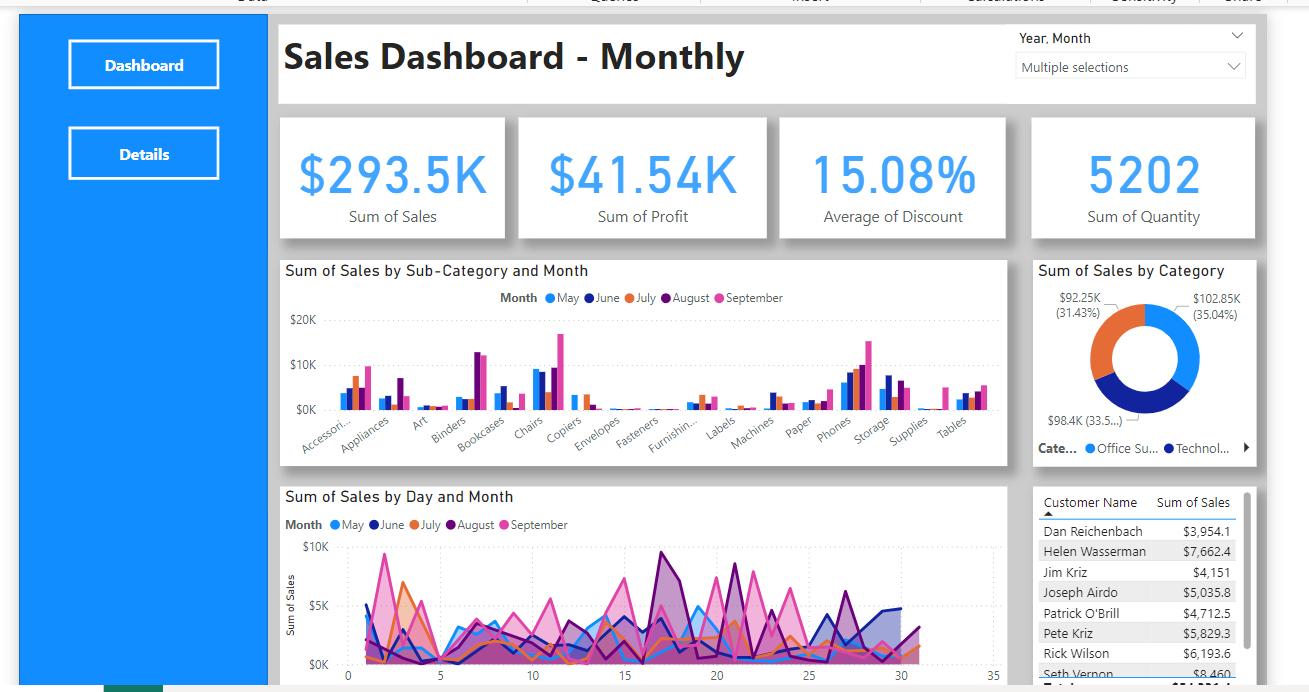

This screenshot's page, from the dashboard's own definition file:
{"tool":"powerbi","page":{"name":"Page 1","canvas":[1280,720],"ordinal":0},"visuals":[{"type":"shape","box":[0,0,255.1,720],"z":0},{"type":"card","fields":{"Values":["Sheet1.Sales"]},"box":[267.2,106.6,230.6,124.1],"z":0,"group":"g1"},{"type":"card","fields":{"Values":["Sheet1.Profit"]},"box":[512.2,106.6,254.5,124.1],"z":1000,"group":"g1"},{"type":"actionButton","box":[51,26.5,155,51],"z":1000},{"type":"card","fields":{"Values":["Sheet1.Quantity"]},"box":[1038.6,106.6,229,124.1],"z":2000,"group":"g1"},{"type":"actionButton","box":[51,115.3,155,54.8],"z":2000},{"type":"card","fields":{"Values":["Sheet1.Discount"]},"box":[779.4,106.6,232.2,124.1],"z":3000,"group":"g1"},{"type":"textbox","box":[265.6,11.1,1002.1,81.1],"z":3000},{"type":"slicer","fields":{"Values":["Sheet1.Order Month.Variation.Date Hierarchy.Year","Sheet1.Order Month.Variation.Date Hierarchy.Month"]},"box":[1011.6,11.1,256.1,81.1],"z":4000},{"type":"clusteredColumnChart","fields":{"Category":["Sheet1.Sub-Category"],"Y":["Sheet1.Sales"],"Series":["Sheet1.Order Month.Variation.Date Hierarchy.Month"]},"box":[267.2,252.9,746,211.6],"z":4000,"group":"g1"},{"type":"group","id":"g1","title":"Group 1","box":[267.2,106.6,1000.8,599.7],"z":5000},{"type":"areaChart","fields":{"Category":["Sheet1.Order Month.Variation.Date Hierarchy.Day"],"Y":["Sheet1.Sales"],"Series":["Sheet1.Order Month.Variation.Date Hierarchy.Month"]},"box":[267.2,485.2,746,221.1],"z":5000,"group":"g1"},{"type":"donutChart","fields":{"Category":["Sheet1.Category"],"Y":["Sheet1.Sales"]},"box":[1039,253,229,212],"z":6000,"group":"g1"},{"type":"tableEx","fields":{"Values":["Sheet1.Customer Name","Sheet1.Sales"]},"box":[1039,485,229,221],"z":7000,"group":"g1"}]}

Visuals, with their boxes on the page's 1280x720 design canvas (x1, y1, x2, y2). These are canvas units, not pixel positions in the 1309x692 screenshot, which may show the page scaled, cropped or inside an application window:
shape: Rect(0, 0, 255, 720)
card - Sheet1.Sales: Rect(267, 107, 498, 231)
card - Sheet1.Profit: Rect(512, 107, 767, 231)
actionButton: Rect(51, 26, 206, 78)
card - Sheet1.Quantity: Rect(1039, 107, 1268, 231)
actionButton: Rect(51, 115, 206, 170)
card - Sheet1.Discount: Rect(779, 107, 1012, 231)
textbox: Rect(266, 11, 1268, 92)
slicer - Sheet1.Order Month.Variation.Date Hierarchy.Year x Sheet1.Order Month.Variation.Date Hierarchy.Month: Rect(1012, 11, 1268, 92)
clusteredColumnChart - Sheet1.Sub-Category x Sheet1.Sales: Rect(267, 253, 1013, 464)
"Group 1" group: Rect(267, 107, 1268, 706)
areaChart - Sheet1.Order Month.Variation.Date Hierarchy.Day x Sheet1.Sales: Rect(267, 485, 1013, 706)
donutChart - Sheet1.Category x Sheet1.Sales: Rect(1039, 253, 1268, 465)
tableEx - Sheet1.Customer Name x Sheet1.Sales: Rect(1039, 485, 1268, 706)
